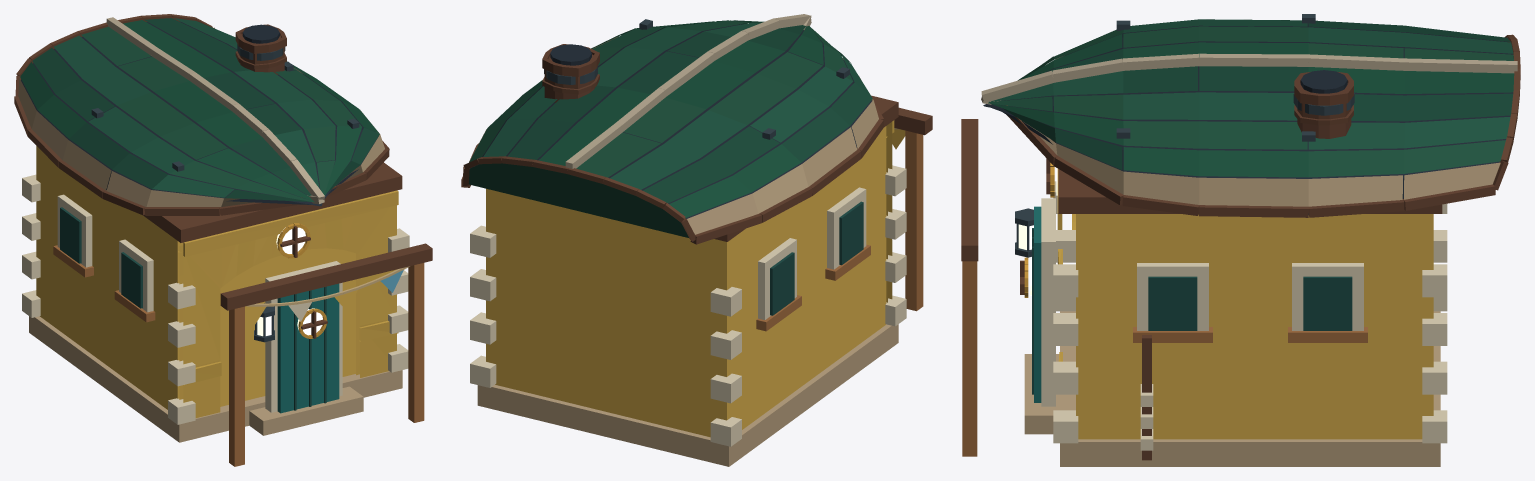
Rendered from boat-shop-small-butter.glb.
3 renders of one model, left to right at view 1: azimuth 30°, elevation 25°; view 2: azimuth 150°, elevation 25°; view 3: azimuth 270°, elevation 25°, orthographic. The views are drawn at different scales.
Visible parts, largest first — view 1: boat-shop-small-butter; view 2: boat-shop-small-butter; view 3: boat-shop-small-butter.
Part boxes in pixels (bbox=[...]): boat-shop-small-butter: bbox=[14, 14, 432, 466]; boat-shop-small-butter: bbox=[461, 14, 932, 466]; boat-shop-small-butter: bbox=[961, 14, 1520, 466].
Size of the model in its own units: 3.42 by 3.52 by 4.9.
